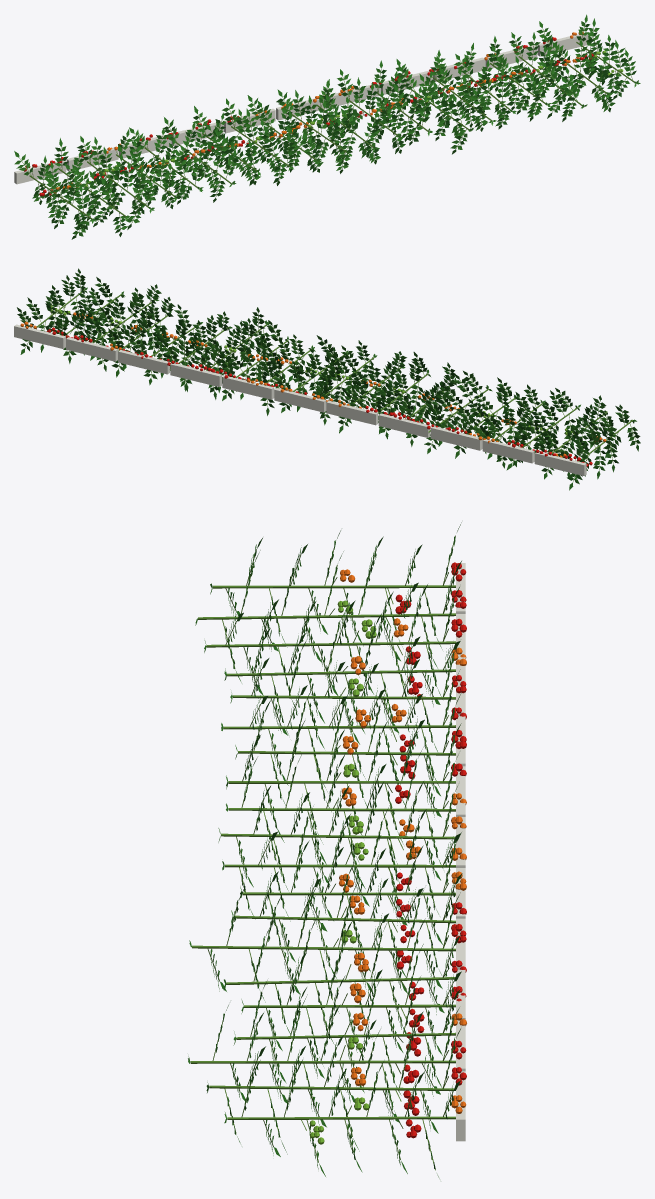
File: row14.obj
3 renders of one model, top to bottom at view 1: azimuth 30°, elevation 25°; view 2: azimuth 150°, elevation 25°; view 3: azimuth 270°, elevation 25°, orthographic. The views are drawn at different scales.
Parts seen in each view (by area): view 1: row14; view 2: row14; view 3: row14.
Boxes of the visible parts, box(x1,y1,x2,y2) form: row14: box(14, 14, 640, 239); row14: box(14, 268, 640, 490); row14: box(188, 522, 466, 1178).
Size of the model in its own units: 11.03 by 1.16 by 2.32.
